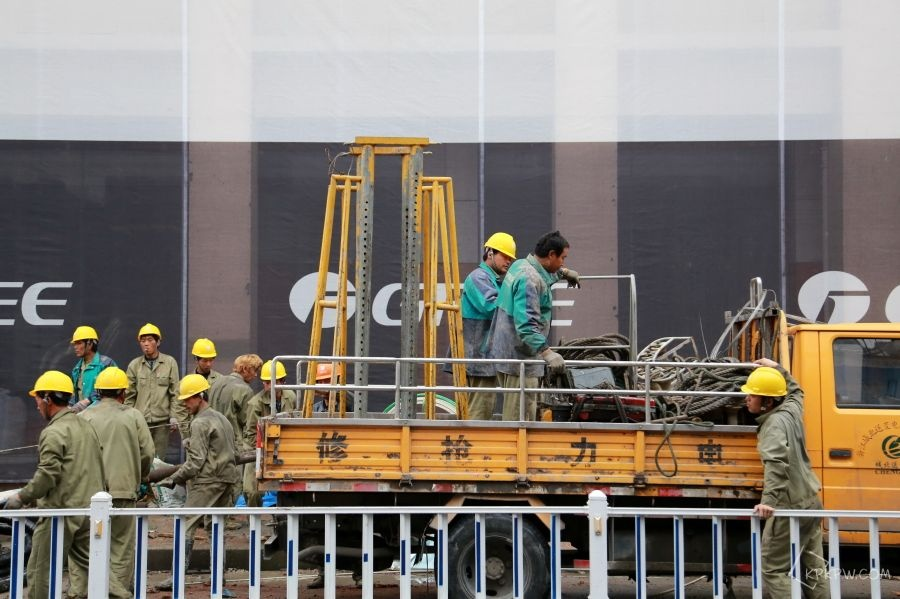none: (533, 228, 571, 274)
yellow: (741, 360, 788, 416), (26, 367, 72, 420), (478, 228, 517, 274), (175, 370, 208, 413), (95, 364, 129, 404), (68, 324, 98, 358), (189, 337, 218, 372), (257, 357, 284, 394), (136, 321, 161, 357)
